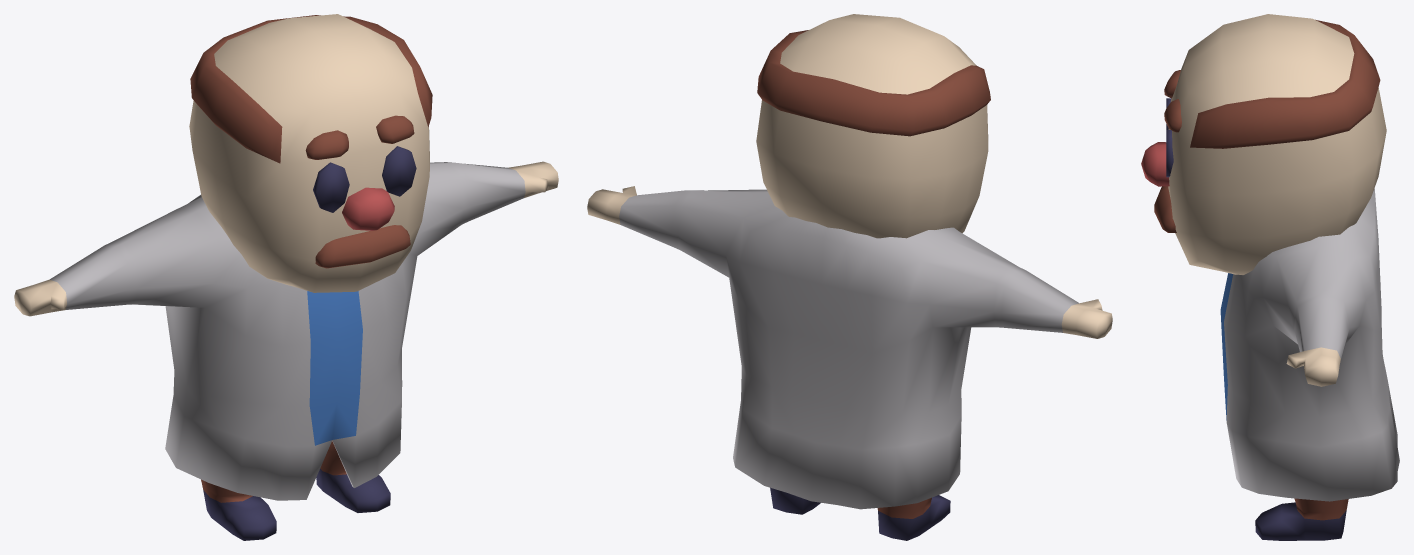
Rendered from scientist.fbx.
3 views of the same model, side by side, from view 1: azimuth 30°, elevation 25°; view 2: azimuth 150°, elevation 25°; view 3: azimuth 270°, elevation 25° (orthographic). The views are drawn at different scales.
Visible parts, largest first — view 1: Body; view 2: Body; view 3: Body.
Boxes of the visible parts, left/top/right/bottom form: Body: left=14, top=14, right=558, bottom=540; Body: left=587, top=14, right=1112, bottom=540; Body: left=1141, top=14, right=1399, bottom=540.
Size of the model in its own units: 3.37 by 2.96 by 1.46.
Materials: 1 (1 with a texture image).
